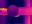Hotspot: (0, 8, 6, 11)
